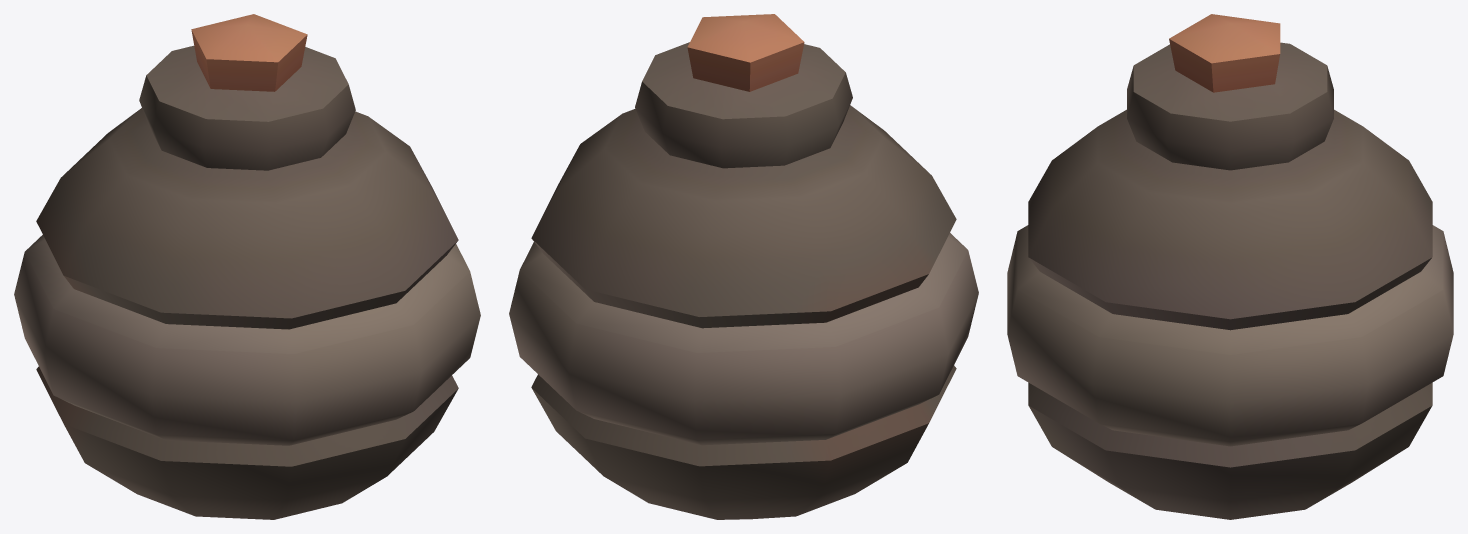
The model's file is bomb.glb.
3 views of the same model, side by side, from view 1: azimuth 30°, elevation 25°; view 2: azimuth 150°, elevation 25°; view 3: azimuth 270°, elevation 25° (orthographic).
Visible parts, largest first — view 1: smokebomb; view 2: smokebomb; view 3: smokebomb.
Boxes of the visible parts, <box> form: smokebomb: <box>14,14,480,519</box>; smokebomb: <box>509,14,978,519</box>; smokebomb: <box>1007,14,1453,519</box>.
Size of the model in its own units: 0.3826 by 0.4231 by 0.3638.
1 material, 1 textured.
